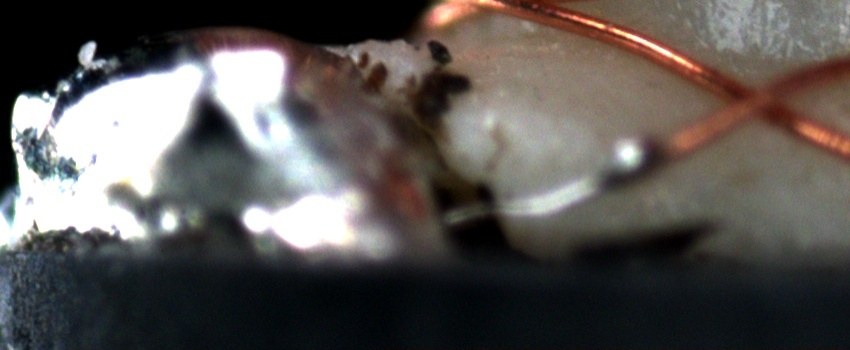CL: (717, 68, 797, 131)
TB: (599, 127, 664, 182)
TTCW: (432, 114, 707, 227)
